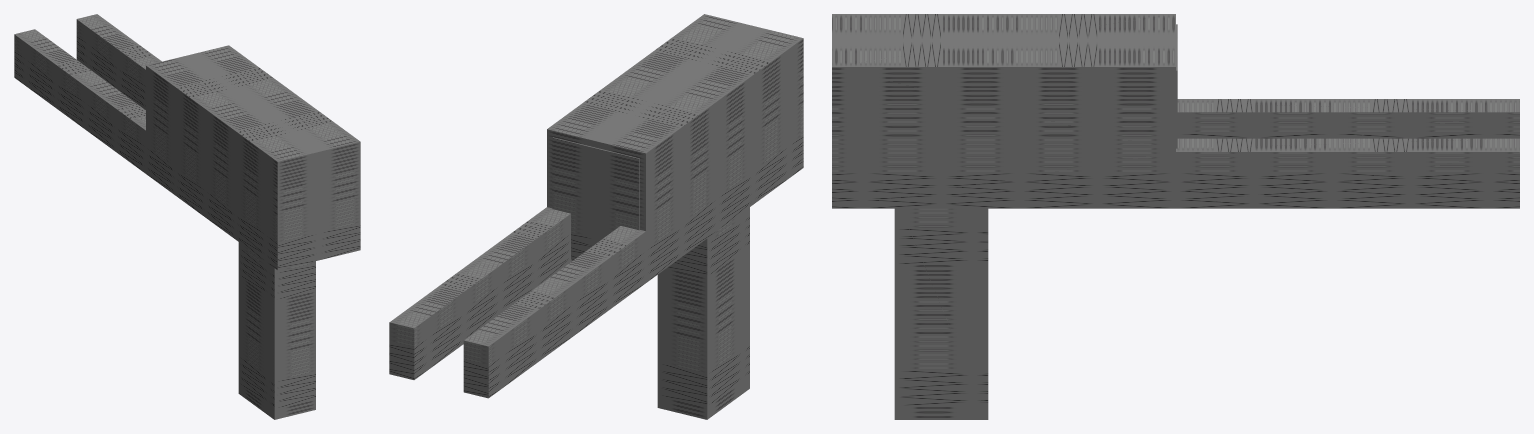
The model's file is touhou gun 2.obj.
3 renders of one model, left to right at view 1: azimuth 30°, elevation 25°; view 2: azimuth 150°, elevation 25°; view 3: azimuth 270°, elevation 25°, orthographic. The views are drawn at different scales.
Visible parts, largest first — view 1: Barrel1, Handle1; view 2: Barrel1, Handle1; view 3: Barrel1, Handle1.
Boxes of the visible parts, left/top/right/bottom form: Barrel1: left=14, top=14, right=360, bottom=270; Handle1: left=238, top=242, right=315, bottom=419; Barrel1: left=389, top=14, right=803, bottom=398; Handle1: left=657, top=207, right=749, bottom=419; Barrel1: left=832, top=14, right=1519, bottom=208; Handle1: left=894, top=208, right=988, bottom=419.
Bounding box in the file's own units: 0.8 × 2.59 × 4.4.
Materials: 2 (2 with a texture image).
